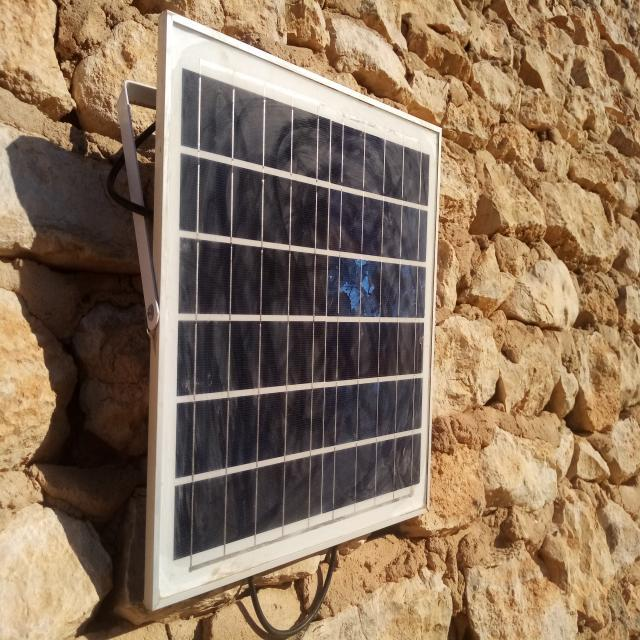faulty: (157, 14, 443, 605)
